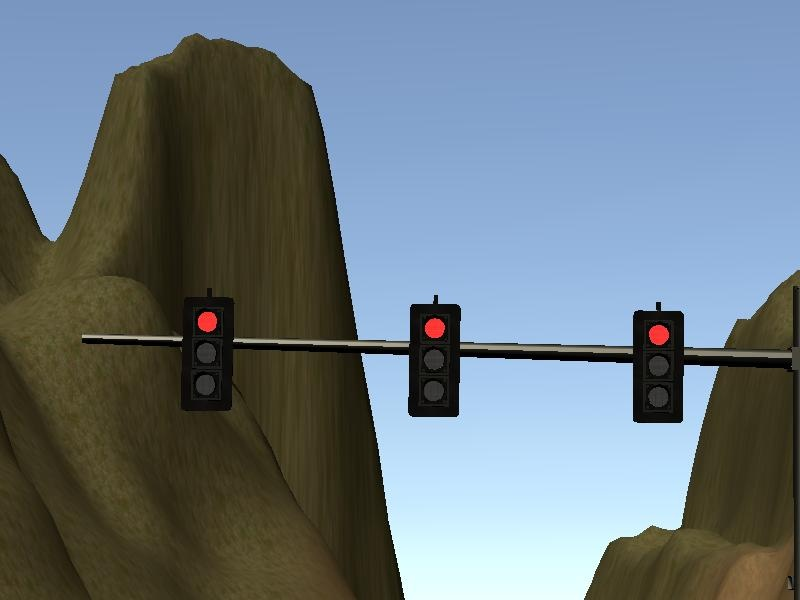red: (628, 295, 693, 425), (176, 286, 241, 414), (402, 292, 464, 420)
